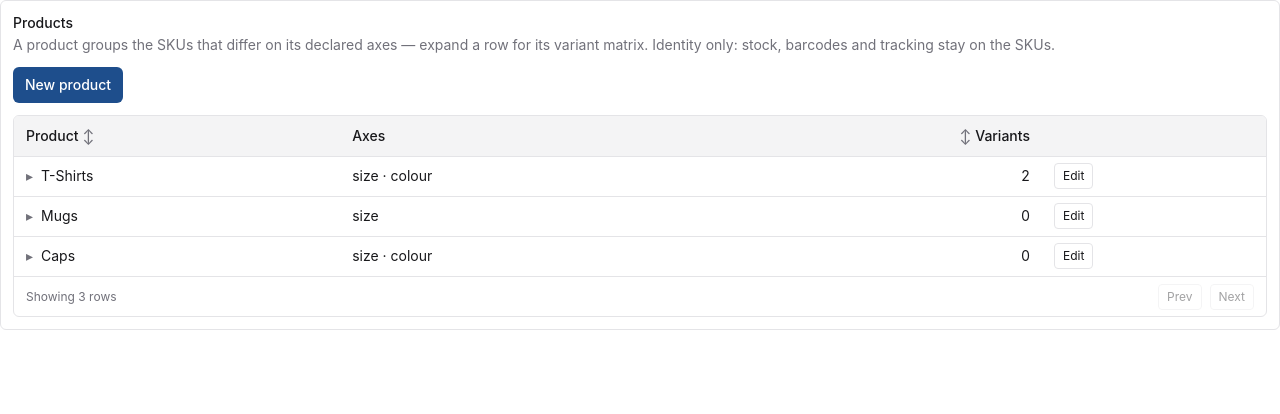
Test: ProductsCard: the variant matrix (story 11-6) › a variant-matrix read failure renders inline on the row with a Retry
Click the button "▸ T-Shirts" at (60, 176), box [26, 166, 94, 186]
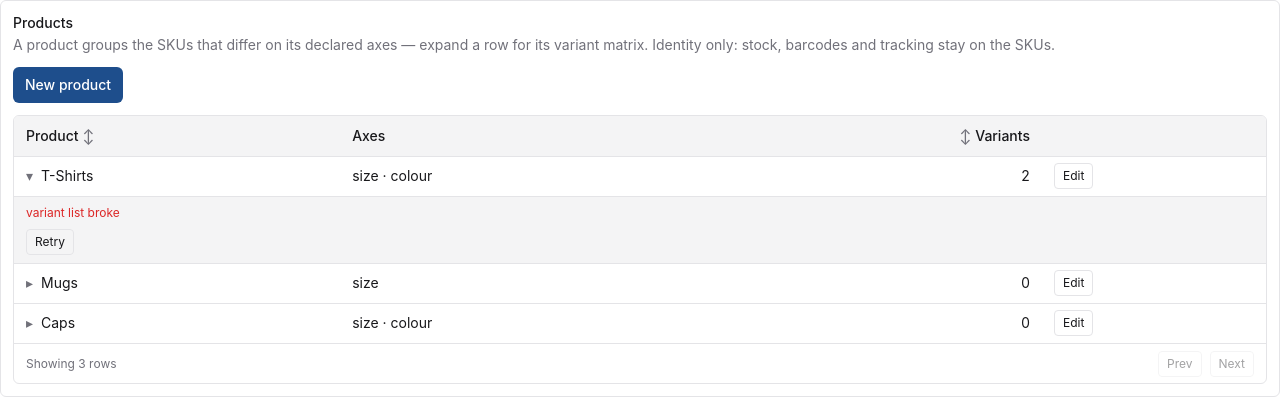
expect the message "variant list broke" is shown: met, box [26, 204, 120, 220]
expect the button "Retry" is shown: met, box [26, 228, 74, 254]
